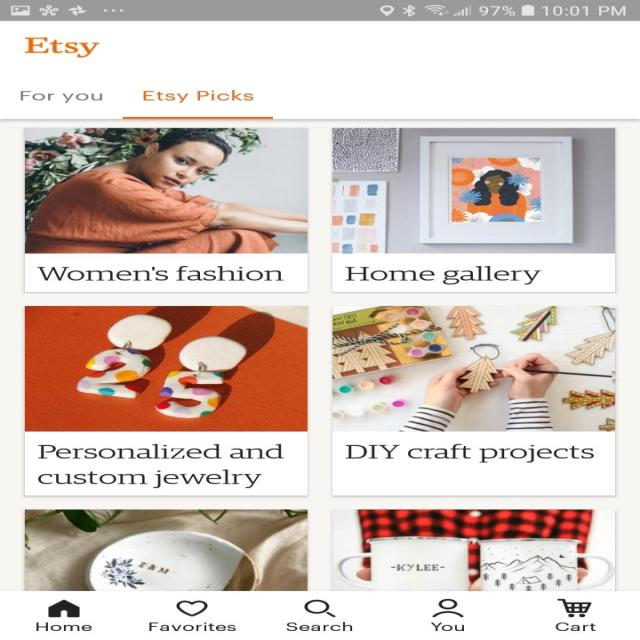Icon: (556, 598, 592, 617), (303, 598, 336, 617), (431, 598, 463, 617), (47, 599, 80, 617), (176, 599, 208, 616)
Image: (332, 128, 616, 253), (25, 306, 308, 431), (25, 128, 308, 253), (332, 306, 614, 431), (25, 509, 308, 590), (332, 509, 614, 590)
Text: (36, 443, 284, 488), (345, 443, 594, 462), (344, 265, 542, 284), (38, 266, 284, 281), (23, 37, 100, 58), (142, 89, 254, 103), (19, 90, 102, 103), (148, 622, 235, 631), (285, 621, 352, 631), (36, 622, 92, 631), (554, 621, 596, 631), (429, 621, 464, 631)
